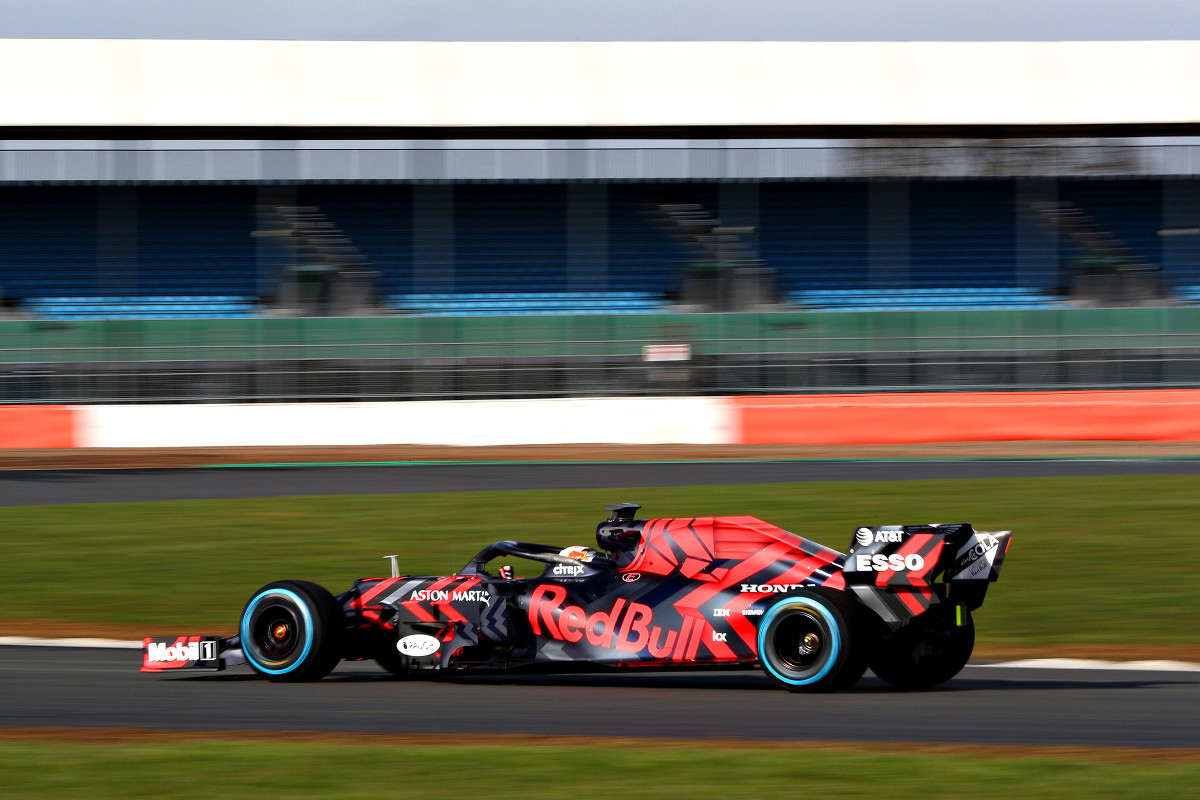F1 Car: (133, 505, 1017, 698)
